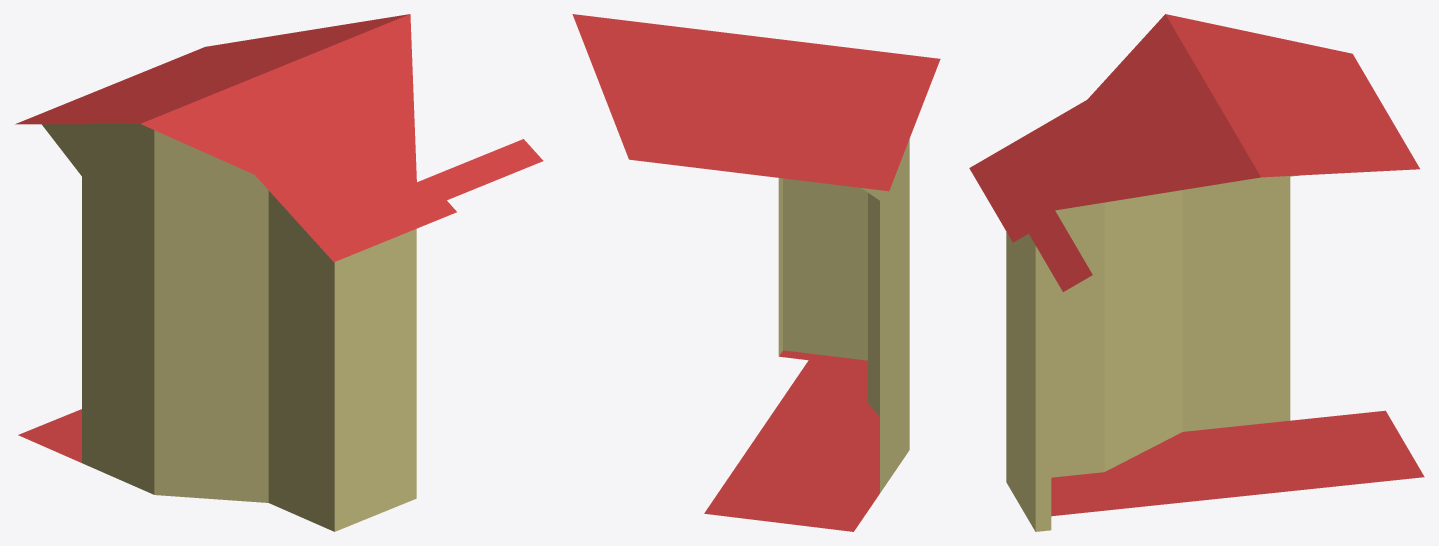
3 views of the same model, side by side, from view 1: azimuth 30°, elevation 25°; view 2: azimuth 150°, elevation 25°; view 3: azimuth 270°, elevation 25° (orthographic). The views are drawn at different scales.
Bounding box in the file's own units: 15.7 × 14.83 × 14.6.
